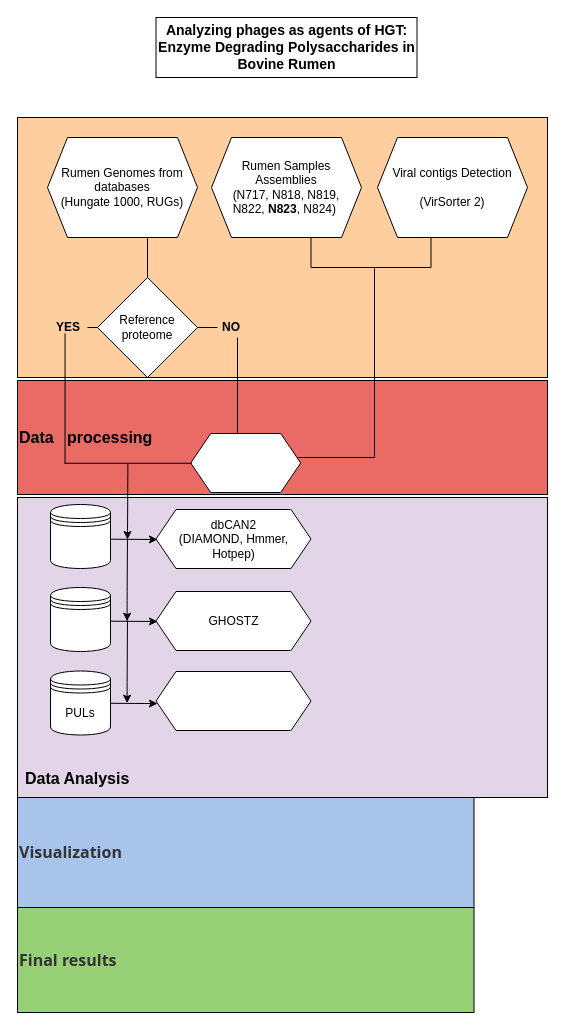
Some shapes in this 565 by 1030 pixel diagram are drawn without their labels. The box of each missing label's shape, as (x1, y1, x2, y2) in pixels:
CAZy: (50, 504, 110, 568)
Data acquisition: (16, 116, 548, 378)
Gene Prediction (prodigal V.): (190, 432, 301, 492)
KEGG: (50, 586, 110, 652)
PULpy: (155, 670, 311, 730)
